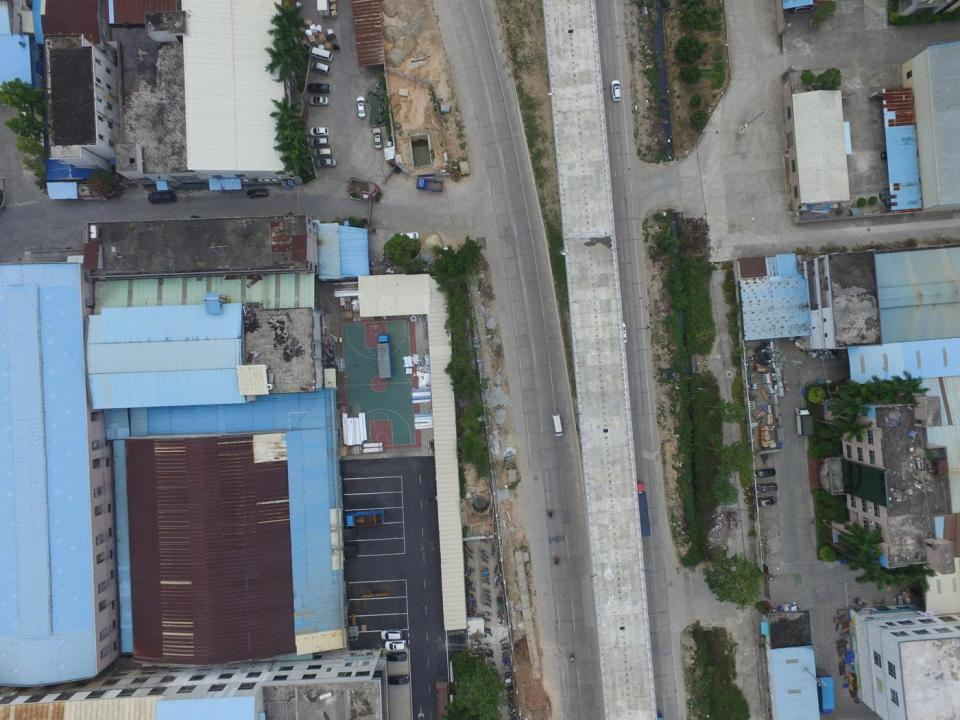car: (306, 82, 331, 94), (380, 628, 402, 641), (314, 157, 337, 169), (245, 187, 269, 198), (388, 674, 410, 686), (308, 94, 329, 106), (308, 137, 330, 148), (355, 96, 366, 118), (372, 127, 383, 149), (756, 483, 778, 494), (611, 79, 622, 101), (386, 652, 407, 663), (384, 640, 407, 650), (309, 125, 329, 136), (313, 147, 334, 157), (755, 468, 776, 478), (757, 496, 776, 507), (399, 231, 419, 241), (618, 322, 627, 344)
truck: (632, 480, 651, 538), (815, 669, 835, 715), (376, 334, 393, 378), (345, 510, 385, 526), (794, 407, 814, 436), (416, 179, 444, 194), (317, 0, 329, 18)
van: (308, 45, 333, 62), (146, 191, 176, 204), (311, 62, 332, 74)
